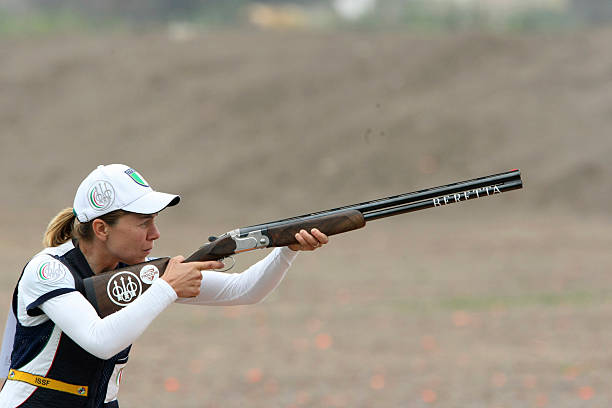shotgun: (89, 166, 523, 314)
